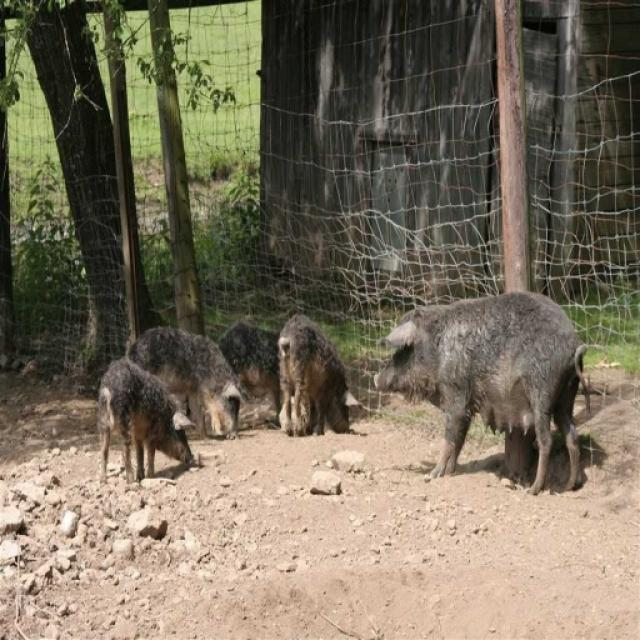pig: (378, 270, 588, 496), (267, 311, 373, 452), (84, 364, 208, 476), (130, 327, 255, 437)
